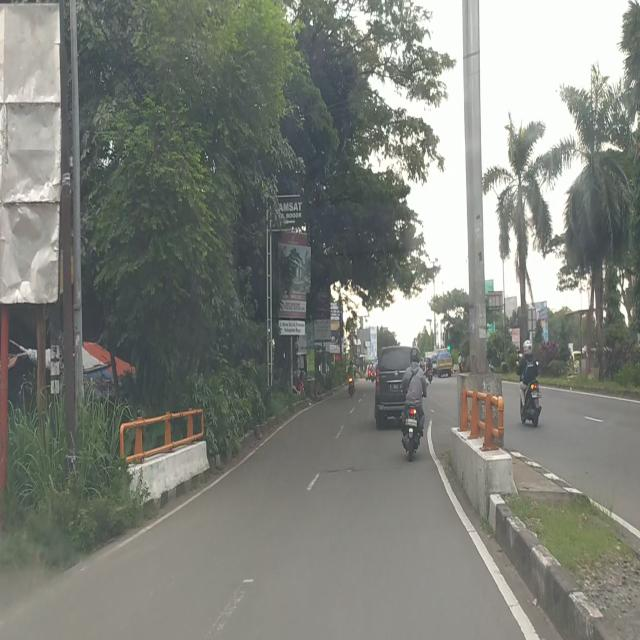Sewer Cover: (315, 464, 436, 474)
